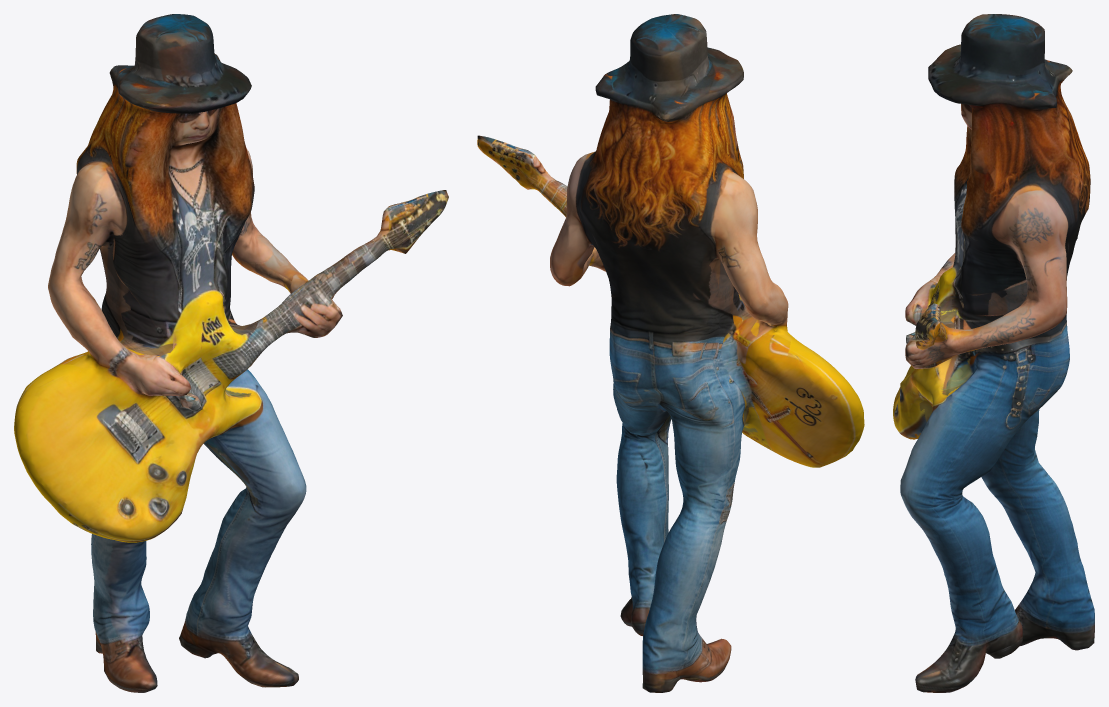
File: A_man_who_looks_like_slash_the_guitar_player_Full_body_0606154520_refine.fbx
3 views of the same model, side by side, from view 1: azimuth 30°, elevation 25°; view 2: azimuth 150°, elevation 25°; view 3: azimuth 270°, elevation 25° (orthographic). The views are drawn at different scales.
Parts seen in each view (by area): view 1: Mesh_0; view 2: Mesh_0; view 3: Mesh_0.
Boxes of the visible parts, box(x1,y1,x2,y2) form: Mesh_0: box(14, 14, 448, 692); Mesh_0: box(477, 14, 864, 692); Mesh_0: box(893, 14, 1094, 692).
Bounding box in the file's own units: 78.74 × 120 × 34.21.
1 material, 1 textured.
